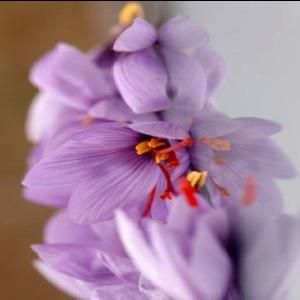Saffron: (29, 122, 197, 218)
